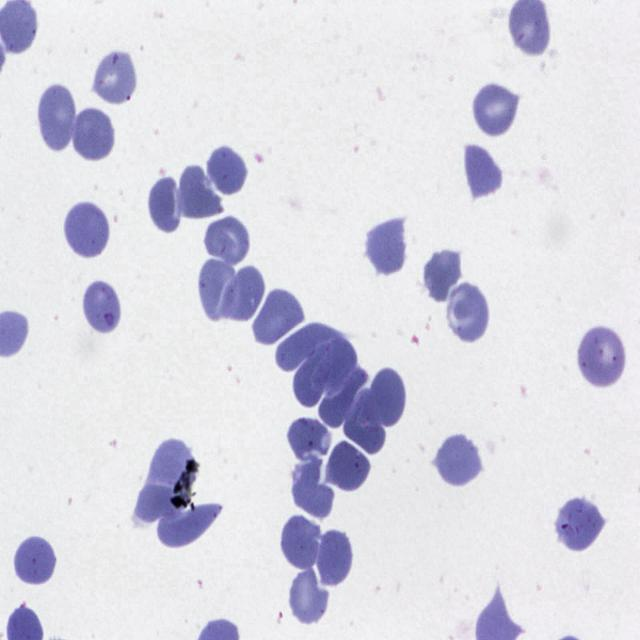red blood cell: (273, 321, 347, 372), (576, 322, 628, 391), (250, 287, 306, 349), (36, 80, 79, 155), (318, 367, 369, 430), (431, 430, 484, 490), (62, 199, 112, 261), (444, 280, 490, 347), (156, 502, 223, 548), (554, 495, 606, 554), (310, 335, 358, 398), (342, 388, 387, 455), (220, 262, 266, 326), (90, 46, 138, 107), (472, 79, 520, 140), (364, 214, 409, 277), (176, 163, 224, 222), (196, 255, 238, 322), (69, 105, 116, 164), (325, 438, 373, 495), (288, 562, 330, 627), (292, 457, 334, 521), (279, 512, 323, 573), (12, 533, 59, 589), (203, 215, 251, 269), (204, 143, 249, 200), (314, 526, 354, 590), (368, 366, 408, 429), (145, 173, 185, 236), (292, 343, 331, 407), (80, 278, 123, 336), (422, 245, 465, 302), (142, 438, 191, 488), (463, 142, 502, 202), (288, 420, 332, 464), (134, 484, 183, 522)
